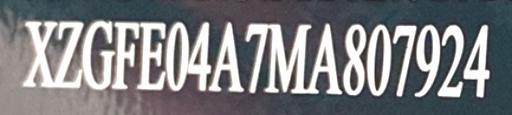letter: (263, 19, 311, 94), (206, 19, 246, 94), (306, 21, 344, 96), (80, 19, 116, 92), (20, 20, 58, 87), (436, 25, 466, 100), (414, 22, 442, 101), (136, 19, 166, 92), (462, 25, 492, 98), (53, 18, 83, 89), (110, 21, 140, 92), (365, 22, 393, 97), (340, 22, 368, 95), (243, 19, 269, 94), (391, 23, 417, 98), (186, 19, 212, 92), (164, 21, 190, 92)
